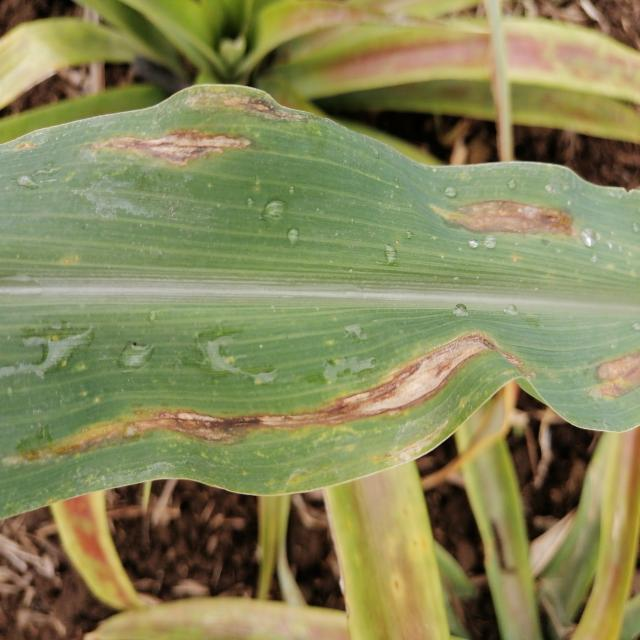Corn_Leaf_Blight: (0, 90, 640, 492)
